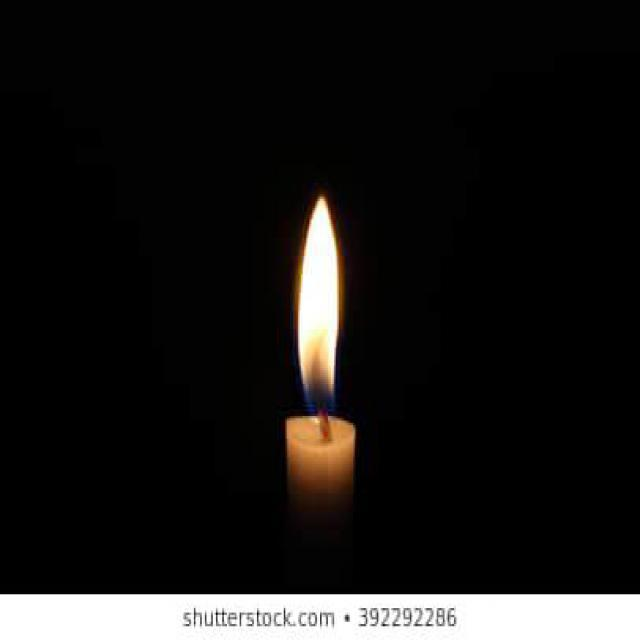Fire: (296, 196, 339, 420)
